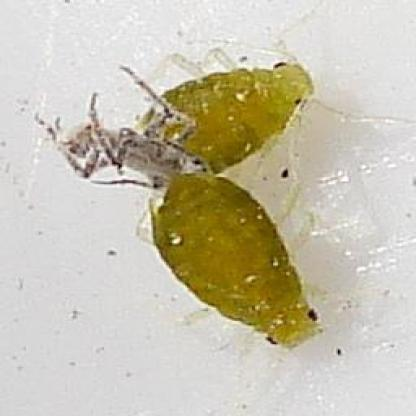aphid: (129, 158, 329, 350), (130, 40, 316, 179)
